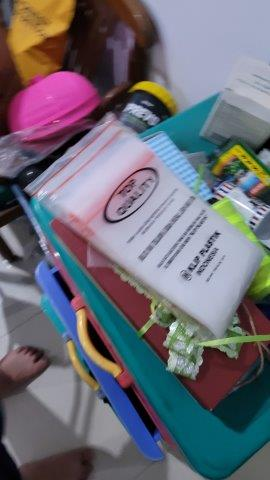plastik: (31, 117, 266, 340)
